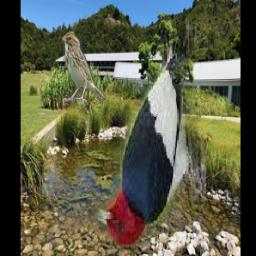Sparrow: (61, 32, 105, 106)
Woodpecker: (88, 15, 205, 248)
